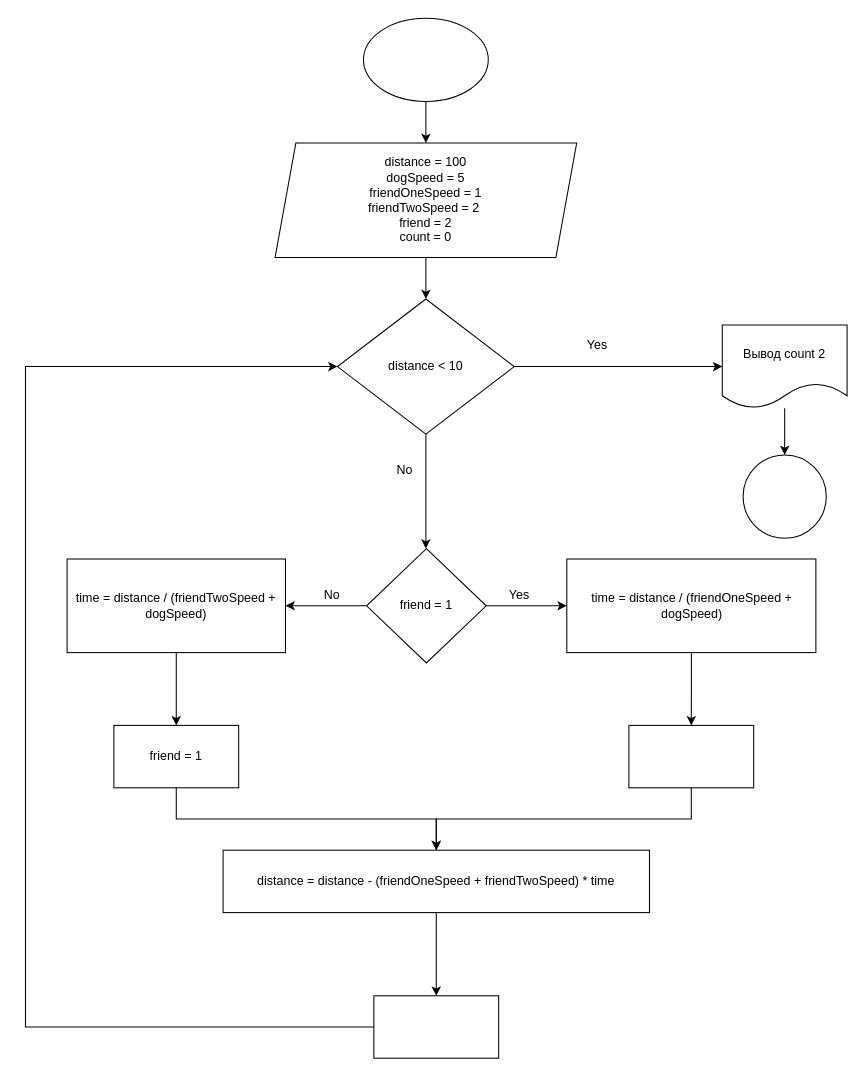
The diagram is 865 pixels wide and 1076 high, and some of its shapes have lost their labels. Here are the shapes that lost their labels. From the top down, the centre of each, then its label:
At [425,59]: "Start".
At [784,496]: "End".
At [691,756]: "friend = 2".
At [436,1026]: "count++".
